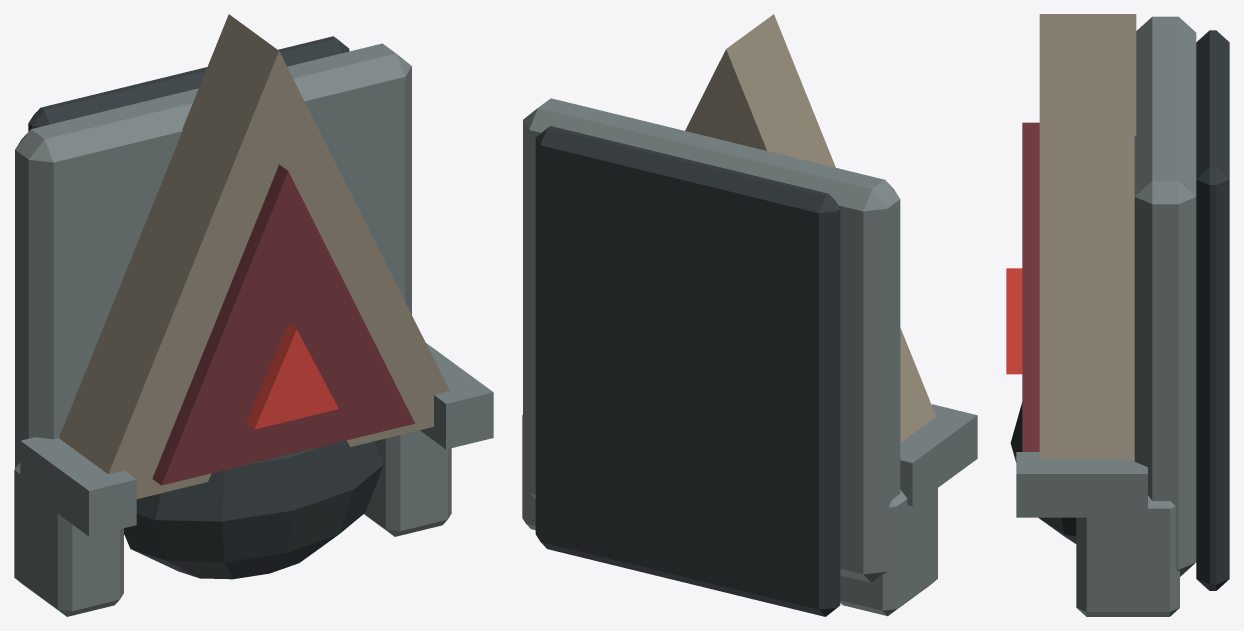
File: person_pack_hunter.obj
3 views of the same model, side by side, from view 1: azimuth 30°, elevation 25°; view 2: azimuth 150°, elevation 25°; view 3: azimuth 270°, elevation 25° (orthographic). The views are drawn at different scales.
Parts seen in each view (by area): view 1: person_pack_hunter; view 2: person_pack_hunter; view 3: person_pack_hunter.
Boxes of the visible parts, x1,y1,x2,y2 form: person_pack_hunter: [14, 14, 493, 616]; person_pack_hunter: [522, 14, 977, 616]; person_pack_hunter: [1006, 14, 1229, 616].
Size of the model in its own units: 0.306 by 0.392 by 0.153.
